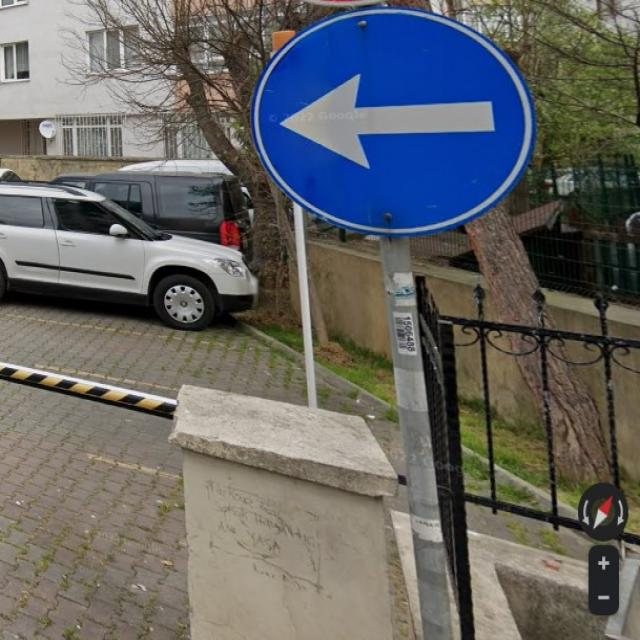Turn Left: (260, 14, 529, 235)
